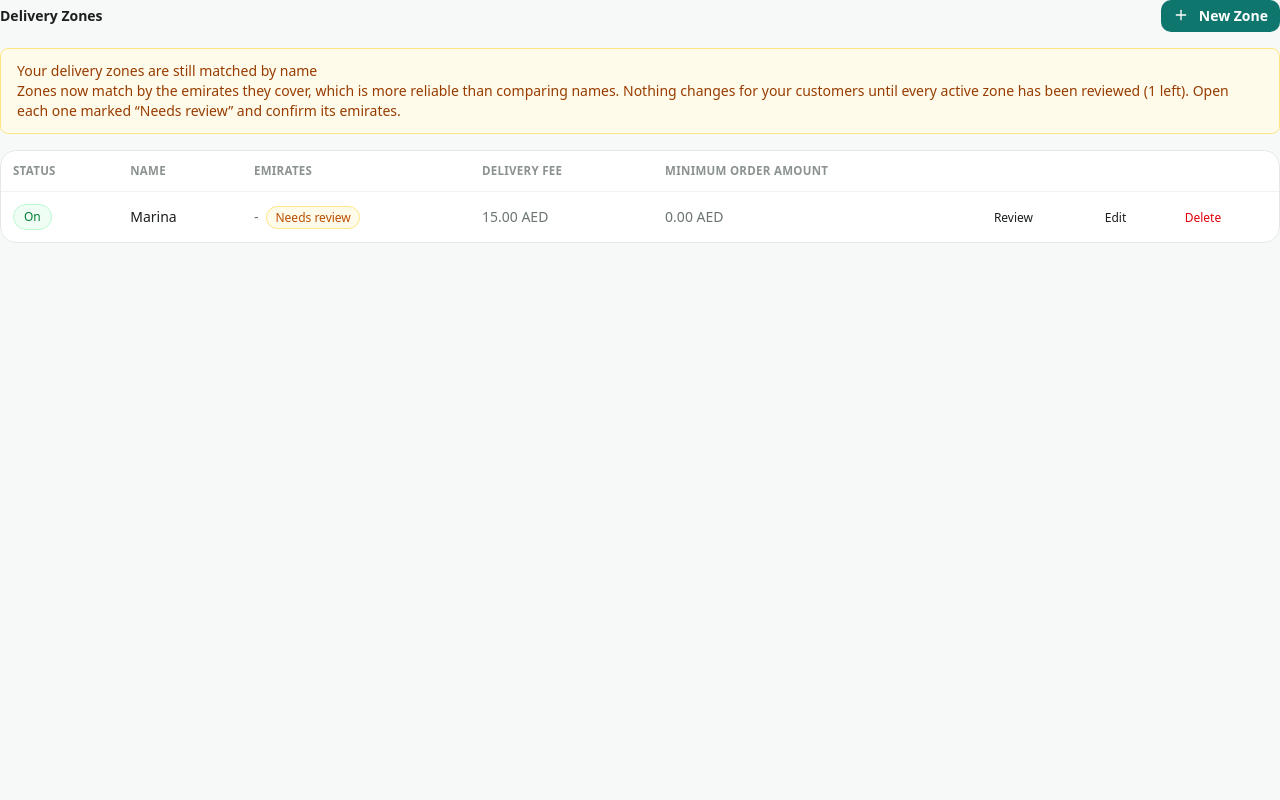
Test: OutletDeliveryAreaTab region mapping › cannot confirm a zone with no region and no placed circle: it would match no customer
Click the button "Review". click: (1014, 218)
box: [994,210,1033,226]
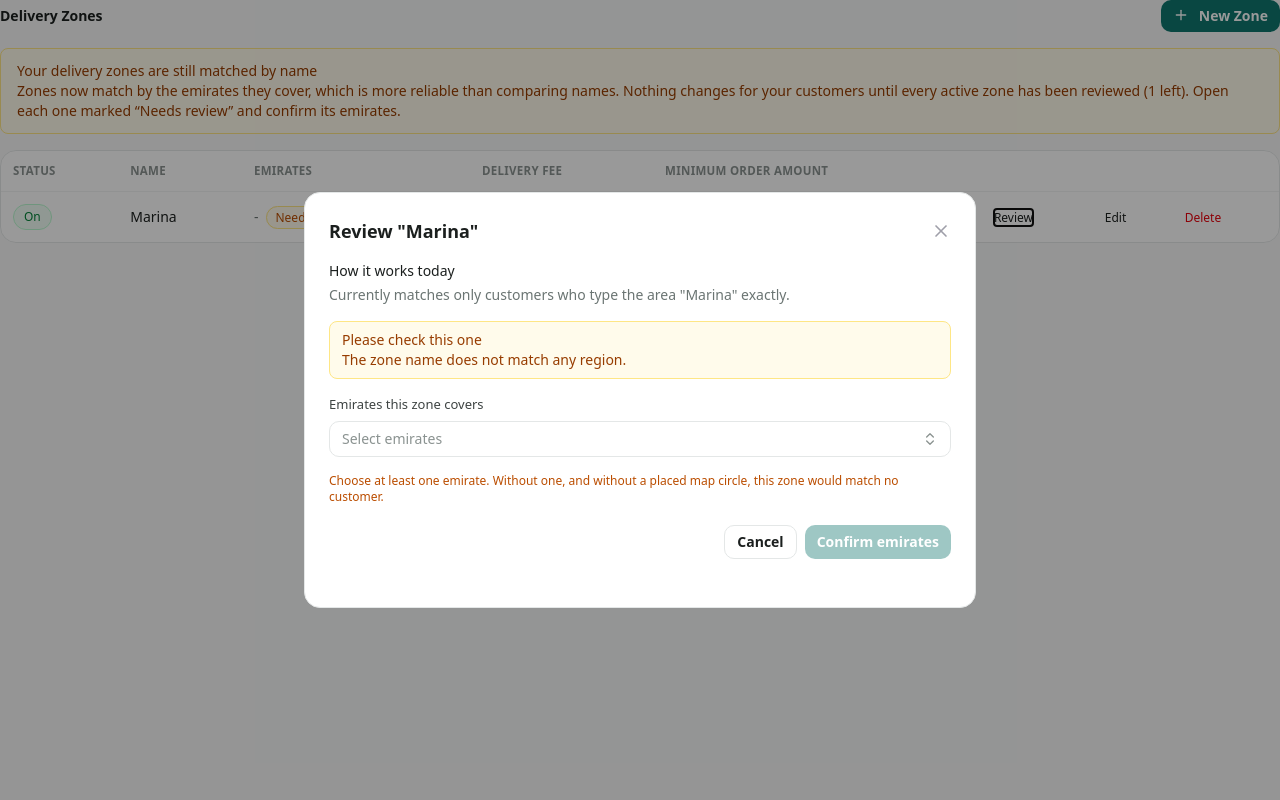
Result: the button "Confirm emirates" is disabled at [805,525,951,559]
Result: the text "Choose at least one emirate" is shown at [329,473,951,505]
